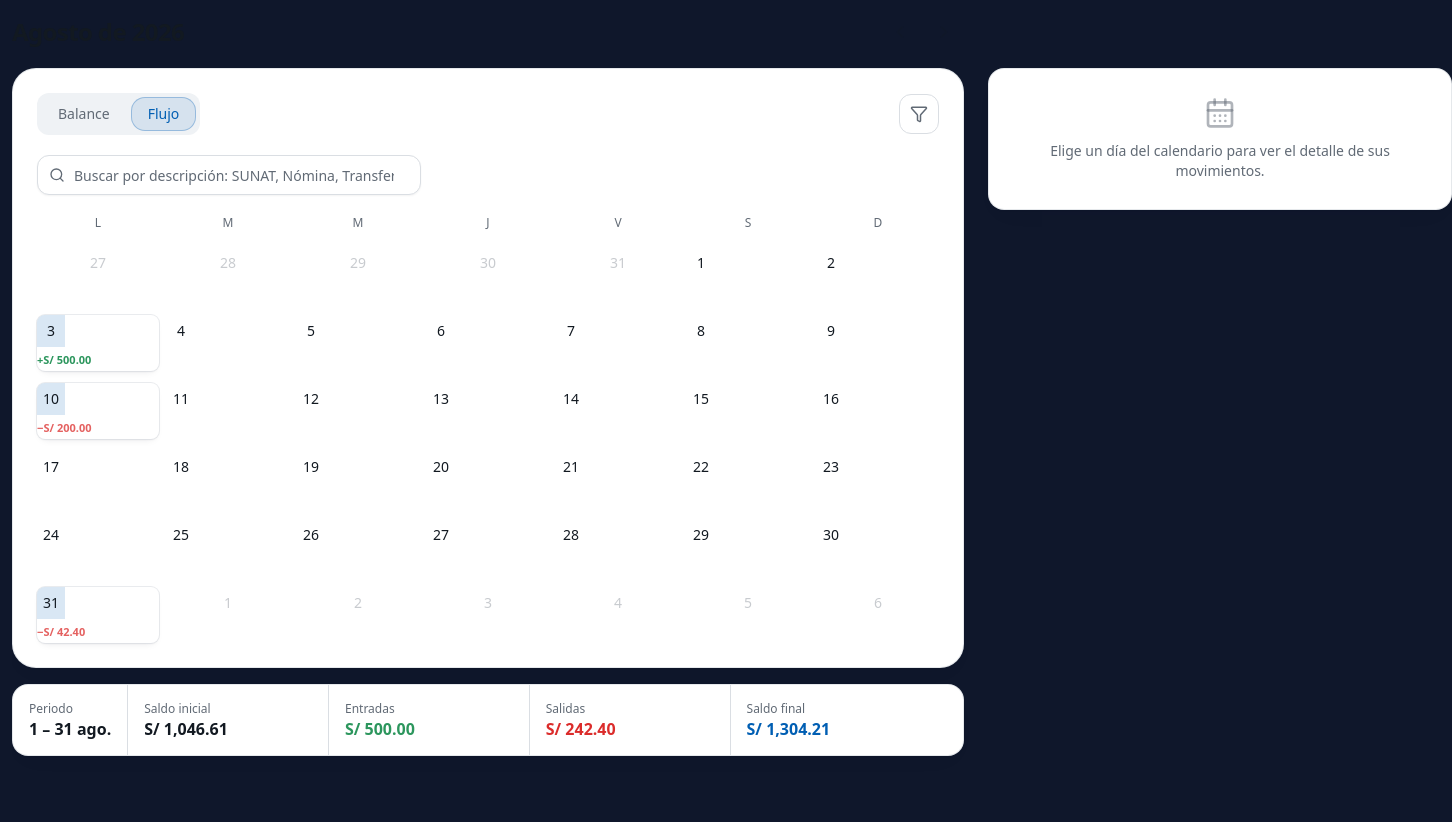
FinancialCalendarView › al hacer clic en un día con movimientos, abre su detalle; al repetir el clic, lo cierra
Click the button "3 +S/ 500.00" at (98, 343), box [37, 315, 159, 371]
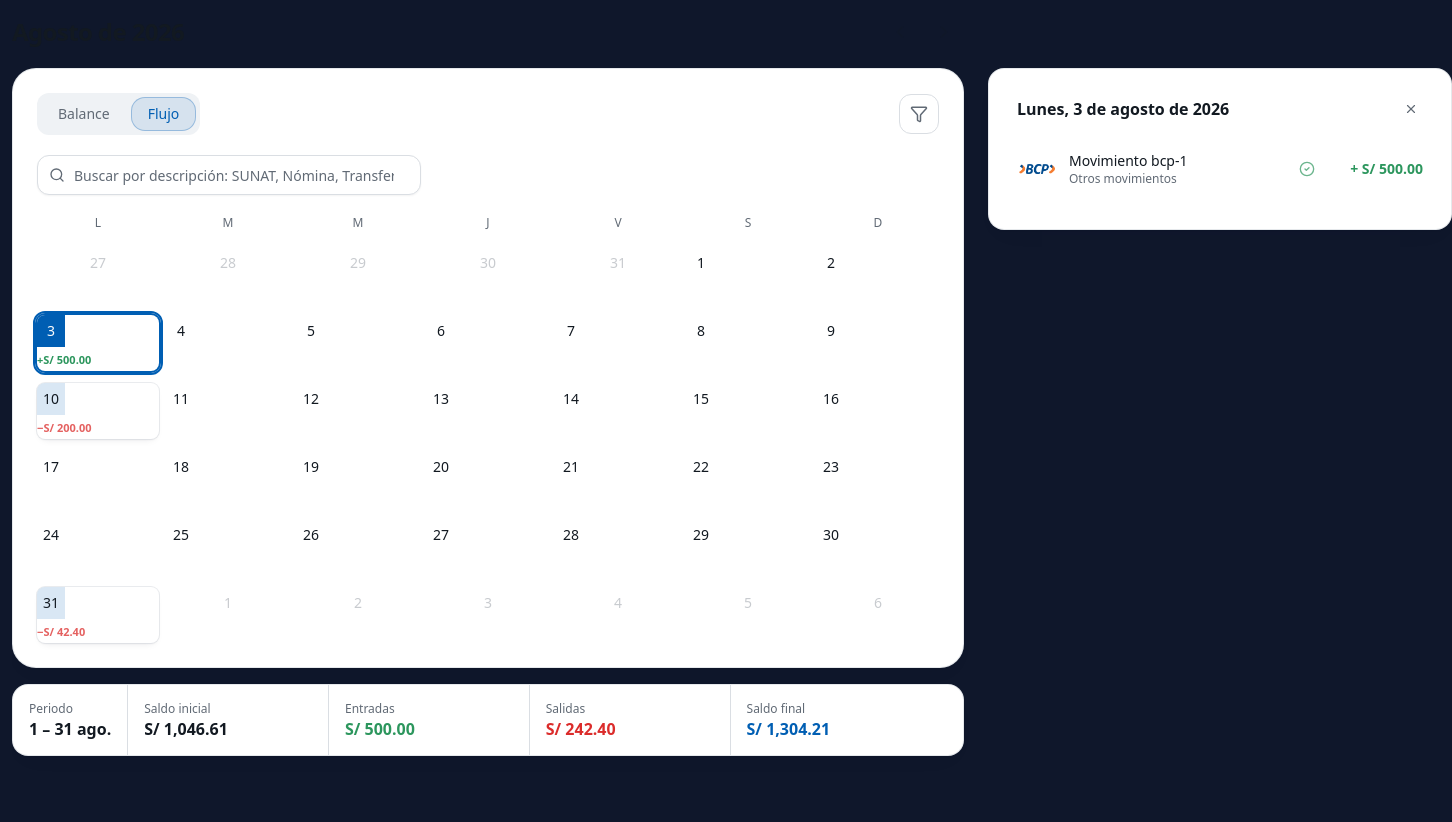
Expected: the text "Elige un día del calendario para ver el detalle de sus movimientos." is gone
Click the button "3 +S/ 500.00" at (98, 343), box [37, 315, 159, 371]
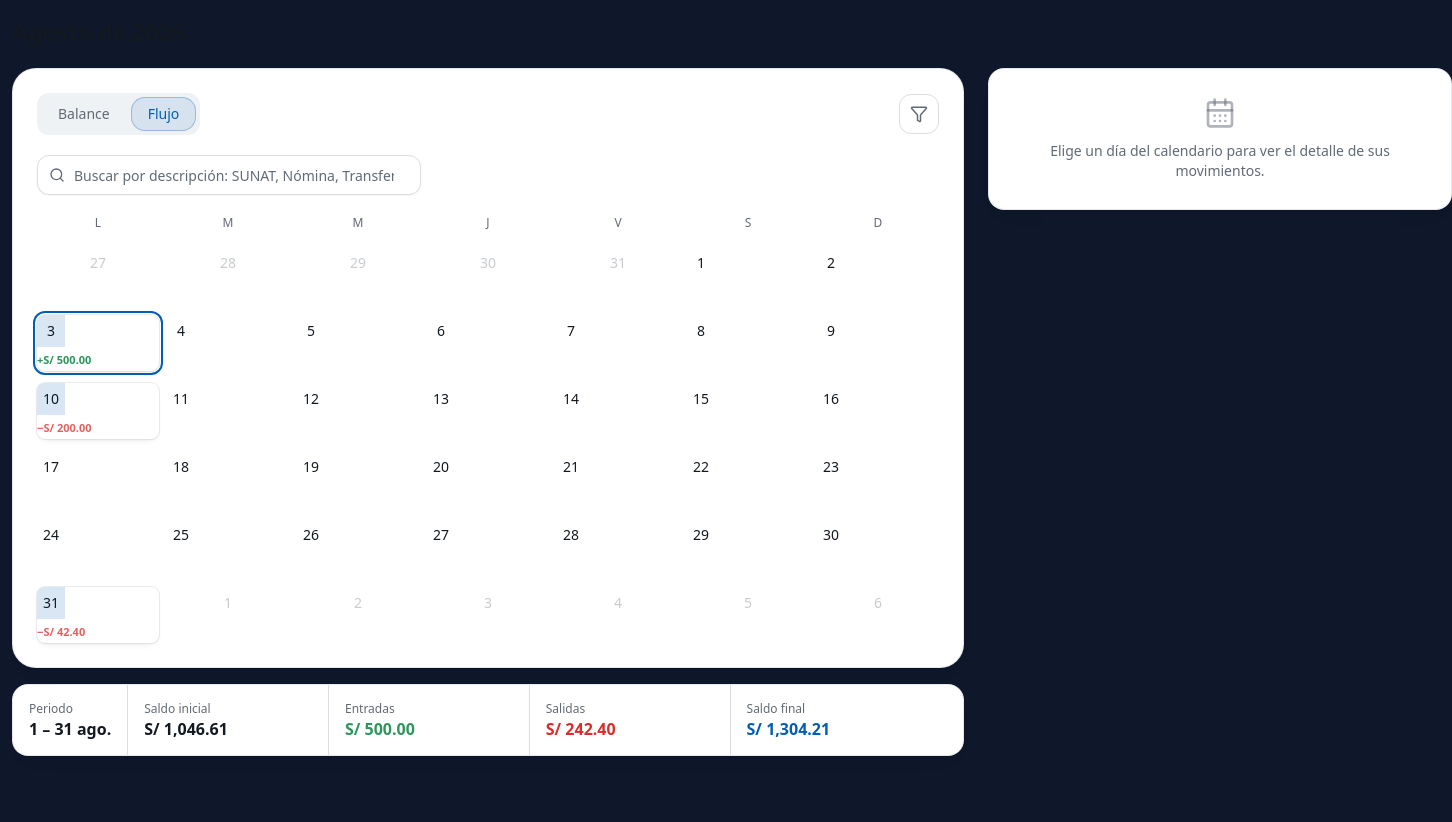
Expected: the text "Elige un día del calendario para ver el detalle de sus movimientos." is shown, [1050, 141, 1390, 180]
